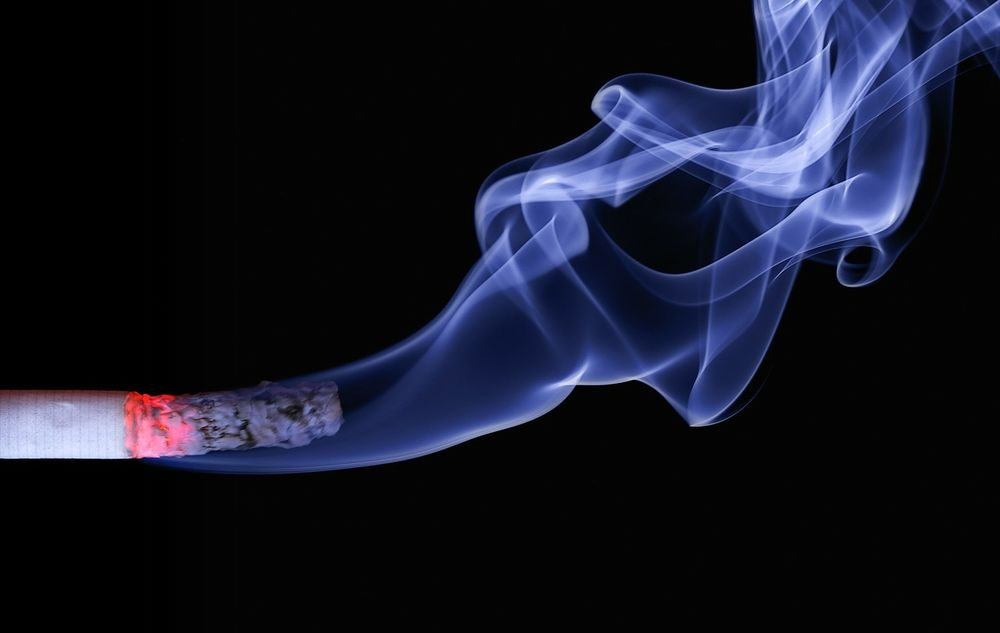cigarette: (3, 386, 422, 472)
